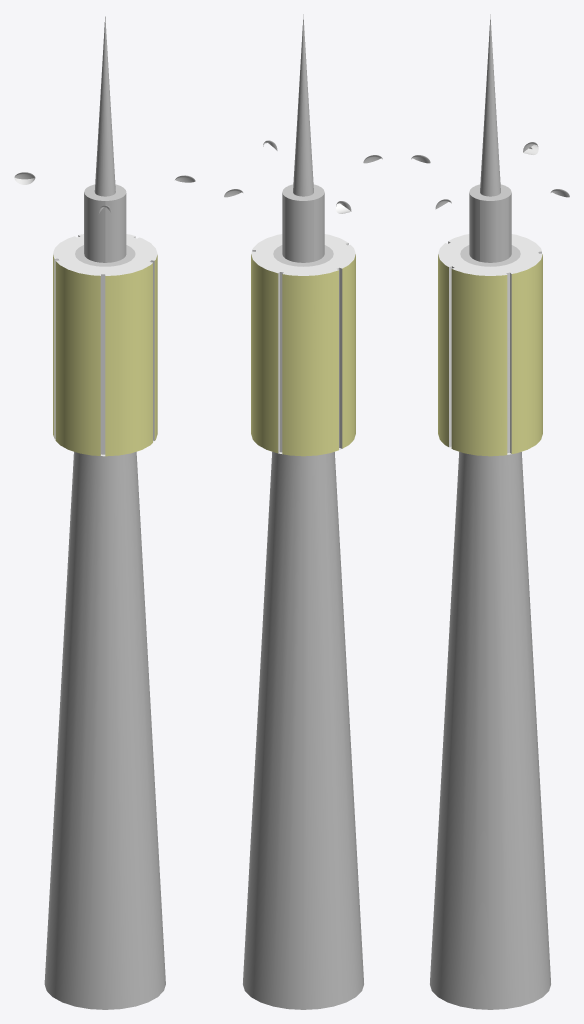
Rendered from signalTower-oversize.gltf.
3 renders of one model, left to right at view 1: azimuth 30°, elevation 25°; view 2: azimuth 150°, elevation 25°; view 3: azimuth 270°, elevation 25°, orthographic.
Visible parts, largest first — view 1: SketchUp, ID47, ID55, ID11, ID73; view 2: SketchUp, ID61, ID67, ID11, ID55; view 3: SketchUp, ID73, ID67, ID11, ID47.
Part boxes in pixels (x1,y1,x2,y2): SketchUp: [44, 16, 165, 1009]; ID47: [105, 263, 152, 456]; ID55: [55, 261, 100, 455]; ID11: [53, 234, 157, 456]; ID73: [154, 255, 157, 440]; SketchUp: [243, 14, 363, 1009]; ID61: [282, 270, 338, 456]; ID67: [251, 254, 278, 453]; ID11: [251, 234, 355, 453]; ID55: [342, 254, 355, 448]; SketchUp: [430, 14, 550, 1009]; ID73: [451, 269, 507, 456]; ID67: [511, 254, 542, 453]; ID11: [438, 234, 542, 454]; ID47: [438, 254, 448, 446].
Size of the model in its own units: 2.03 by 14.11 by 2.09.
